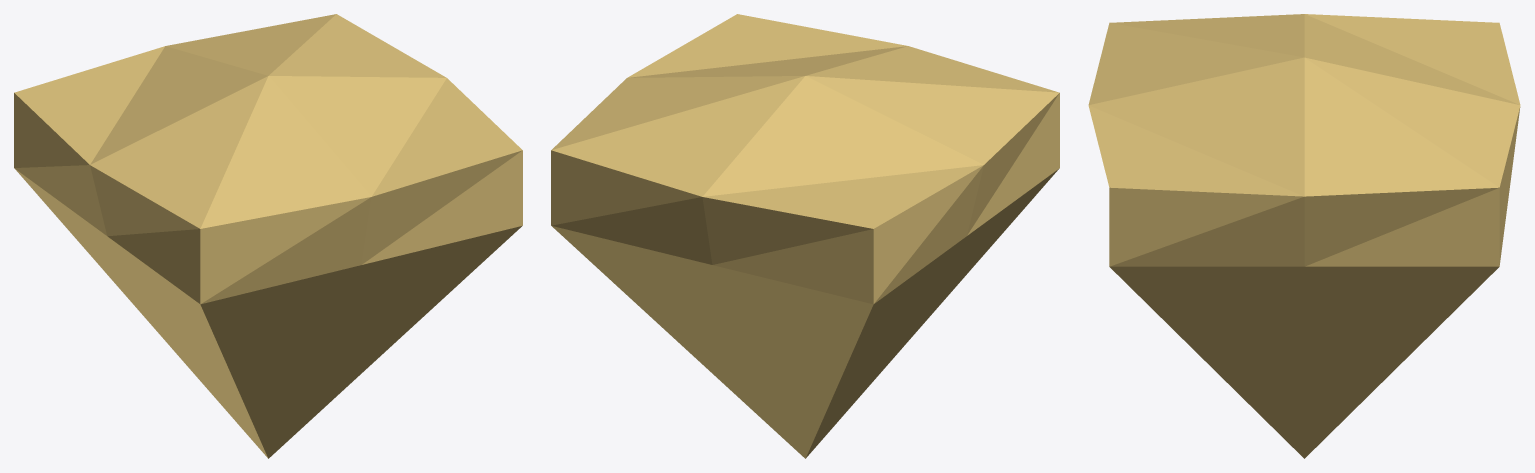
The model's file is crystal_plane_sign.FBX.
The picture shows the model from 3 angles, left to right: view 1: azimuth 30°, elevation 25°; view 2: azimuth 150°, elevation 25°; view 3: azimuth 270°, elevation 25°; orthographic projection. The views are drawn at different scales.
Parts seen in each view (by area): view 1: Box011; view 2: Box011; view 3: Box011.
Boxes of the visible parts, <box> form: Box011: <box>14,14,522,458</box>; Box011: <box>551,14,1059,458</box>; Box011: <box>1088,14,1520,458</box>.
Bounding box in the file's own units: 13.28 × 13.62 × 13.28.
